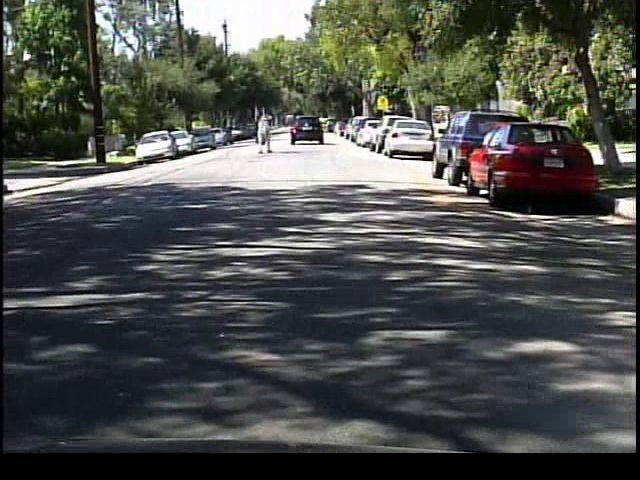person: (253, 118, 277, 164)
